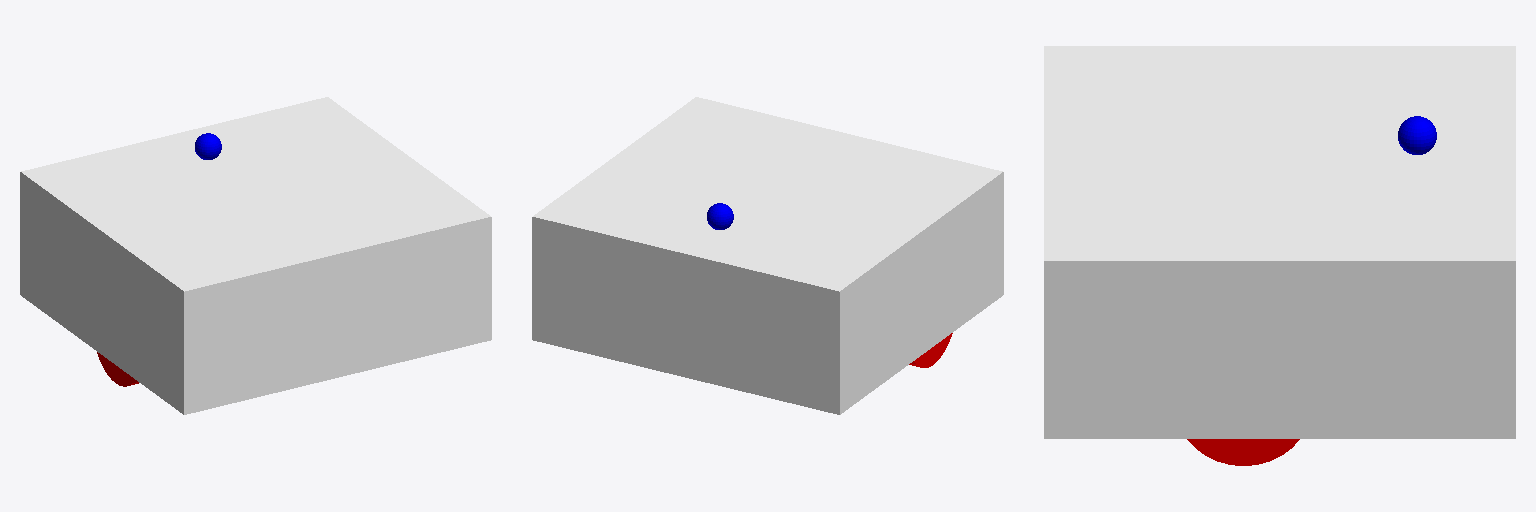
The robot description file, URDF, robot "rover":
<?xml version="1.0"?>
<robot name="rover">
    <!-- i.e rotation center of the robot -->
    <link name="base_link" />

    <!-- i.e physical center of the robot -->
    <link name="robot_center">
        <visual>
            <geometry>
                <box size="0.26 0.24 0.10"/> <!-- x y z -->
            </geometry>
            <material name="white">
                <color rgba="1 1 1 0.2"/>
            </material>
        </visual>
    </link>
    <joint name="robot_center_joint" type="fixed">
        <axis xyz="1 1 1"/>
        <parent link="base_link"/>
        <child link="robot_center"/>
        <origin rpy="0 0 0" xyz="0 -0.0485 0"/>
    </joint>

    <link name="wheel_left">
        <visual>
            <geometry>
                <cylinder length="0.0086" radius="0.035" />
            </geometry>
            <material name="red">
                <color rgba="1 0. 0. 1"/>
            </material>
        </visual>
    </link>
    <joint name="wheel_left_joint" type="fixed">
        <axis xyz="1 1 1"/>
        <parent link="robot_center"/>
        <child link="wheel_left"/>
        <origin rpy="1.57079632679 0 1.57079632679" xyz="-0.125 -0.0185 -.0305"/>
    </joint>
    <link name="wheel_right">
        <visual>
            <geometry>
                <cylinder length="0.0086" radius="0.035" />
            </geometry>
            <material name="red">
                <color rgba="1 0. 0. 1"/>
            </material>
        </visual>
    </link>
    <joint name="wheel_right_joint" type="fixed">
        <axis xyz="1 1 1"/>
        <parent link="robot_center"/>
        <child link="wheel_right"/>
        <origin rpy="1.57079632679 0 1.57079632679" xyz="0.125 -0.0185 -.0305"/>
    </joint>

	 <link name="middle_caster">
        <visual>
            <geometry>
                <sphere radius="0.017" />
            </geometry>
            <material name="red">
                <color rgba="1 0. 0. 1"/>
            </material>
        </visual>
    </link>
    <joint name="middle_caster_joint" type="fixed">
        <axis xyz="1 1 1"/>
        <parent link="robot_center"/>
        <child link="middle_caster"/>
        <origin rpy="0 0 0" xyz="0.00 0.10 -0.04"/>
    </joint>
    
    
    

    <!-- ultrasonic sensors -->
    
    <link name="ultrasonic_front">
        <visual>
            <geometry>
                <box size="0.045 0.030 0.029"/>
            </geometry>
            <material name="green_50">
                <color rgba="0 1 0 0.5"/>
            </material>
        </visual>
    </link>
    <joint name="ultrasonic_front_joint" type="fixed">
        <axis xyz="1 1 1"/>
        <parent link="robot_center"/>
        <child link="ultrasonic_front"/>
        <origin rpy="0 0 0" xyz="0 0.075 -0.011"/>
    </joint>

    <link name="ultrasonic_front_emission_point">
        <visual>
            <geometry>
                <sphere radius="0.01" />
            </geometry>
            <material name="red">
                <color rgba="1 0 0 1"/>
            </material>
        </visual>
    </link>
    <joint name="ultrasonic_front_emission_joint" type="fixed">
        <axis xyz="1 1 1"/>
        <parent link="robot_center"/>
        <child link="ultrasonic_front_emission_point"/>
        <origin rpy="0 0 1.57079632679" xyz="0 0.075 -0.011"/>
    </joint>
    
    <link name="ultrasonic_back">
        <visual>
            <geometry>
                <box size="0.045 0.030 0.029"/>
            </geometry>
            <material name="green_50">
                <color rgba="0 1 0 0.5"/>
            </material>
        </visual>
    </link>
    <joint name="ultrasonic_back_joint" type="fixed">
        <axis xyz="1 1 1"/>
        <parent link="robot_center"/>
        <child link="ultrasonic_back"/>
        <origin rpy="0 0 3.141592654" xyz="0 -0.075 -0.011"/>
    </joint>

    <link name="ultrasonic_back_emission_point">
        <visual>
            <geometry>
                <sphere radius="0.01" />
            </geometry>
            <material name="red">
                <color rgba="1 0 0 1"/>
            </material>
        </visual>
    </link>
    <joint name="ultrasonic_back_emission_joint" type="fixed">
        <axis xyz="1 1 1"/>
        <parent link="robot_center"/>
        <child link="ultrasonic_back_emission_point"/>
        <origin rpy="0 0 -1.57079632679" xyz="0 -0.075 -0.011"/>
    </joint>

    <link name="ultrasonic_left">
        <visual>
            <geometry>
                <box size="0.045 0.030 0.029"/>
            </geometry>
            <material name="green_50">
                <color rgba="0 1 0 0.5"/>
            </material>
        </visual>
    </link>
    <joint name="ultrasonic_left_joint" type="fixed">
        <axis xyz="1 1 1"/>
        <parent link="robot_center"/>
        <child link="ultrasonic_left"/>
        <origin rpy="0 0 1.57079632679" xyz="-0.075 -0.0395 -0.011"/>
    </joint>

    <link name="ultrasonic_left_emission_point">
        <visual>
            <geometry>
                <sphere radius="0.01" />
            </geometry>
            <material name="red">
                <color rgba="1 0 0 1"/>
            </material>
        </visual>
    </link>
    <joint name="ultrasonic_left_emission_joint" type="fixed">
        <axis xyz="1 1 1"/>
        <parent link="robot_center"/>
        <child link="ultrasonic_left_emission_point"/>
        <origin rpy="0 0 3.141592654" xyz="-0.075 -0.0395 -0.011"/>
    </joint>

    <link name="ultrasonic_right">
        <visual>
            <geometry>
                <box size="0.045 0.030 0.029"/>
            </geometry>
            <material name="green_50">
                <color rgba="0 1 0 0.5"/>
            </material>
        </visual>
    </link>
    <joint name="ultrasonic_right_joint" type="fixed">
        <axis xyz="1 1 1"/>
        <parent link="robot_center"/>
        <child link="ultrasonic_right"/>
        <origin rpy="0 0 -1.57079632679" xyz="0.075 -0.0395 -0.011"/>
    </joint>

    <link name="ultrasonic_right_emission_point">
        <visual>
            <geometry>
                <sphere radius="0.01" />
            </geometry>
            <material name="red">
                <color rgba="1 0 0 1"/>
            </material>
        </visual>
    </link>
    <joint name="ultrasonic_right_emission_joint" type="fixed">
        <axis xyz="1 1 1"/>
        <parent link="robot_center"/>
        <child link="ultrasonic_right_emission_point"/>
        <origin rpy="0 0 0" xyz="0.075 -0.0395 -0.011"/>
    </joint>

    <link name="laser_scan_center_point">
        <visual>
            <geometry>
                <sphere radius="0.01" />
            </geometry>
            <material name="yellow">
                <color rgba="1 1 0 1"/>
            </material>
        </visual>
    </link>
    <joint name="laser_scan_center_joint" type="fixed">
        <axis xyz="1 1 1"/>
        <parent link="robot_center"/>
        <child link="laser_scan_center_point"/>
        <origin rpy="0 0 0" xyz="0 0 -0.011"/>
    </joint>

    <link name="head_indication">
        <visual>
            <geometry>
                <sphere radius="0.01" />
            </geometry>
            <material name="blue">
                <color rgba="0 0. 1 1"/>
            </material>
        </visual>
    </link>
    <joint name="head_indication_joint" type="fixed">
        <axis xyz="1 1 1"/>
        <parent link="robot_center"/>
        <child link="head_indication"/>
        <origin rpy="0 0 0" xyz="0 0.07 0.06"/>
    </joint>

    <gazebo>
        <plugin name="joint_state_publisher" filename="libgazebo_ros_joint_state_publisher.so">
            <jointName>wheel_left_joint, wheel_right_joint, right_caster_joint, left_caster_joint, ultrasonic_front_joint, ultrasonic_back_joint, ultrasonic_left_joint, ultrasonic_right_joint, ultrasonic_front_emission_point, ultrasonic_back_emission_point, ultrasonic_left_emission_point, ultrasonic_right_emission_point, laser_scan_center_joint</jointName>
        </plugin>
    </gazebo>
</robot>

--- Facts derived from the render (not from the file) ---
3 views of the same robot in one strip: view 1: azimuth 30°, elevation 25°; view 2: azimuth 150°, elevation 25°; view 3: azimuth 270°, elevation 25° (orthographic).
Robot: rover — 15 links, 14 joints (14 fixed); root link base_link; default pose: every joint at zero.
Visible links, largest first — view 1: robot_center, head_indication; view 2: robot_center, head_indication; view 3: robot_center, wheel_right, head_indication.
Link boxes in pixels (box(x1,y1,x2,y2)): robot_center: box(20, 97, 491, 414); head_indication: box(195, 133, 221, 159); robot_center: box(532, 97, 1003, 414); head_indication: box(707, 203, 733, 229); robot_center: box(1044, 46, 1515, 438); wheel_right: box(1187, 439, 1299, 465); head_indication: box(1398, 116, 1436, 154).
Size in the robot's own frame: 0.26 by 0.24 by 0.1355 metres.
Geometry: primitives only (box / cylinder / sphere), no mesh files.